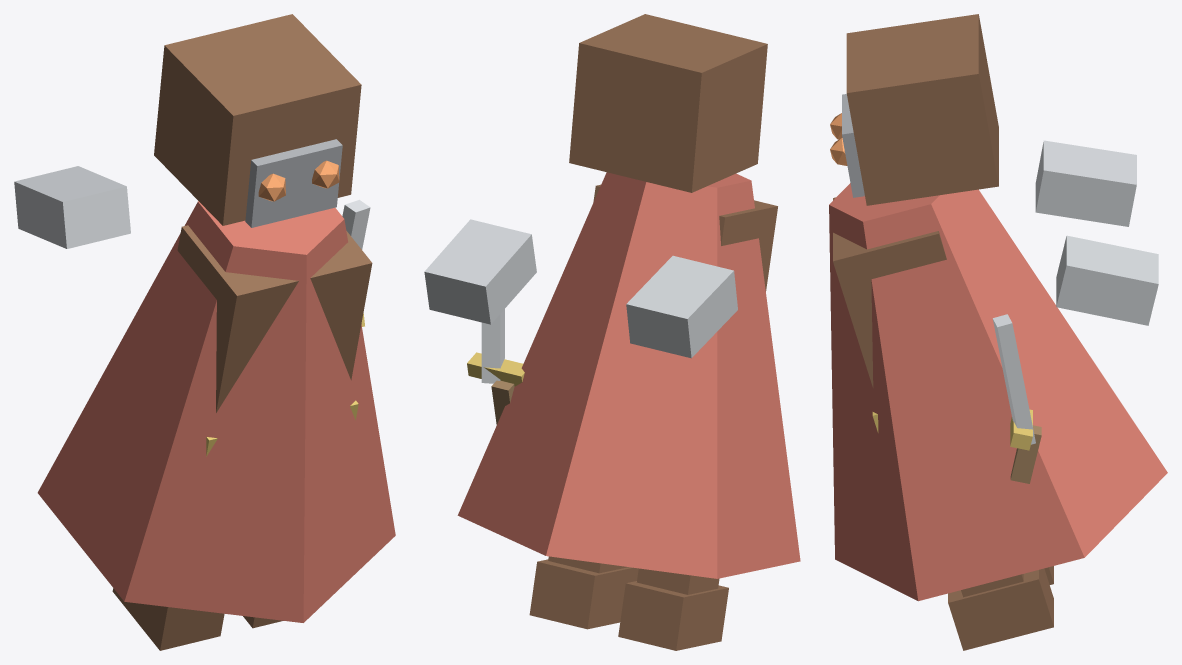
File: npcpose_raider_walk_00.glb
3 views of the same model, side by side, from view 1: azimuth 30°, elevation 25°; view 2: azimuth 150°, elevation 25°; view 3: azimuth 270°, elevation 25° (orthographic). The views are drawn at different scales.
Visible parts, largest first — view 1: npcpose; view 2: npcpose; view 3: npcpose.
Boxes of the visible parts, <box> form: npcpose: <box>14,14,395,650</box>; npcpose: <box>424,14,800,650</box>; npcpose: <box>829,14,1167,650</box>.
Size of the model in its own units: 0.8111 by 1.6 by 0.8612.
